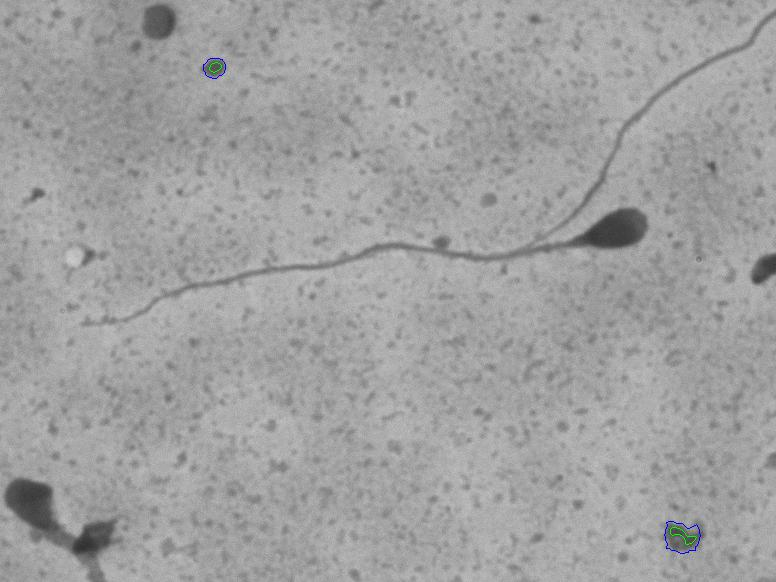Normal: (77, 195, 668, 364)
